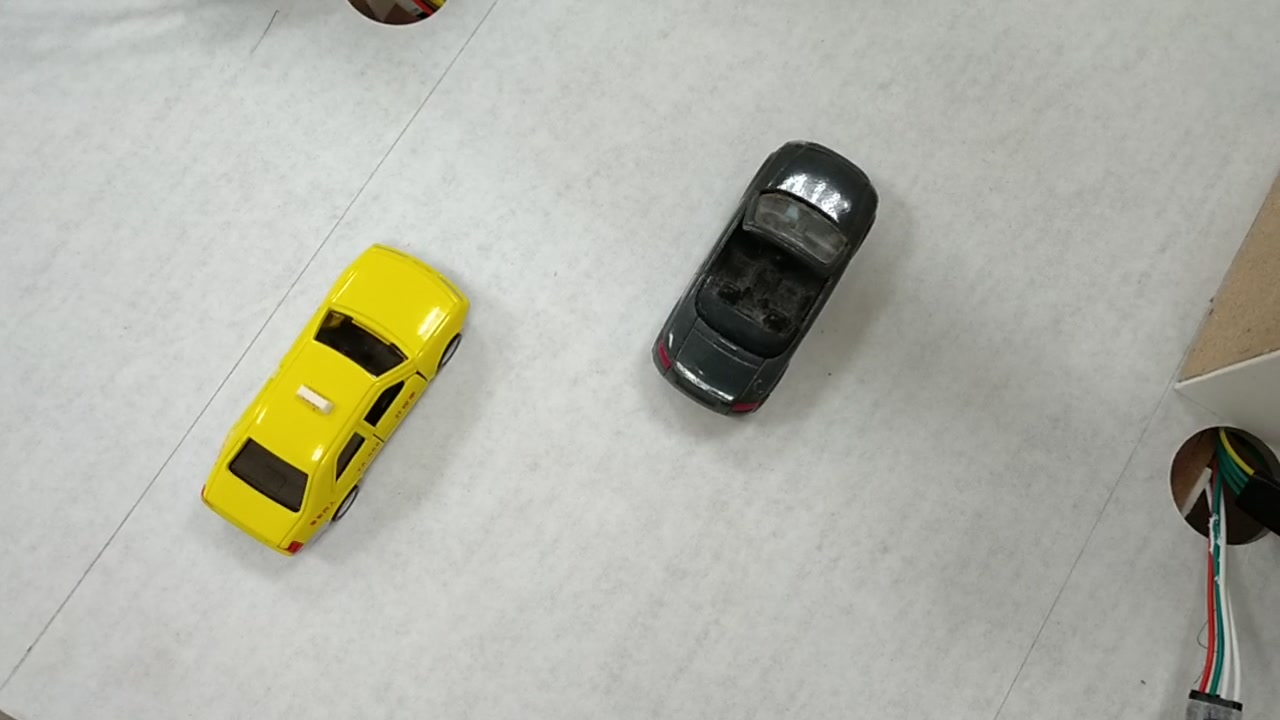car: (199, 260, 468, 559), (647, 145, 877, 417)
